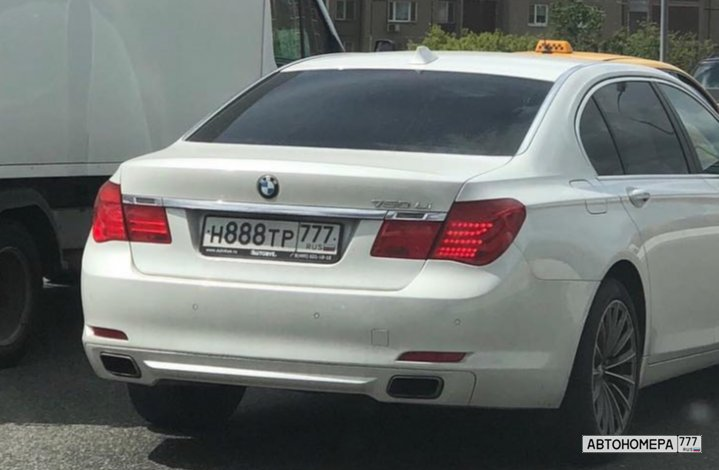number_plate: (202, 211, 344, 261)
